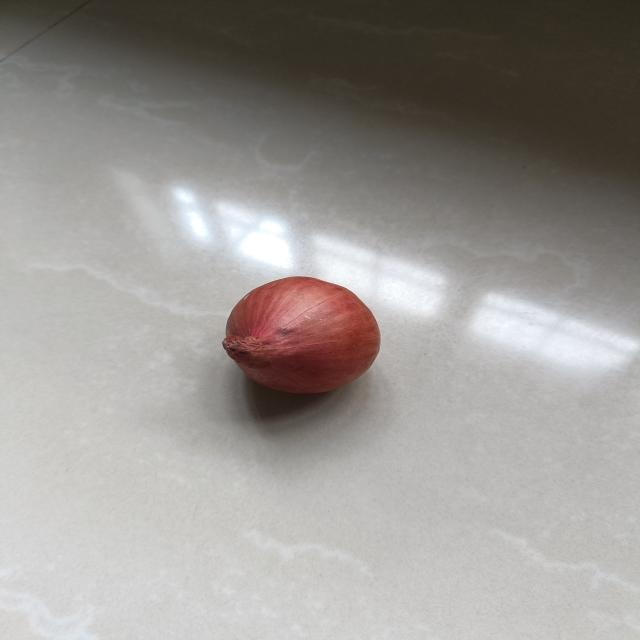onion: (215, 270, 385, 398)
